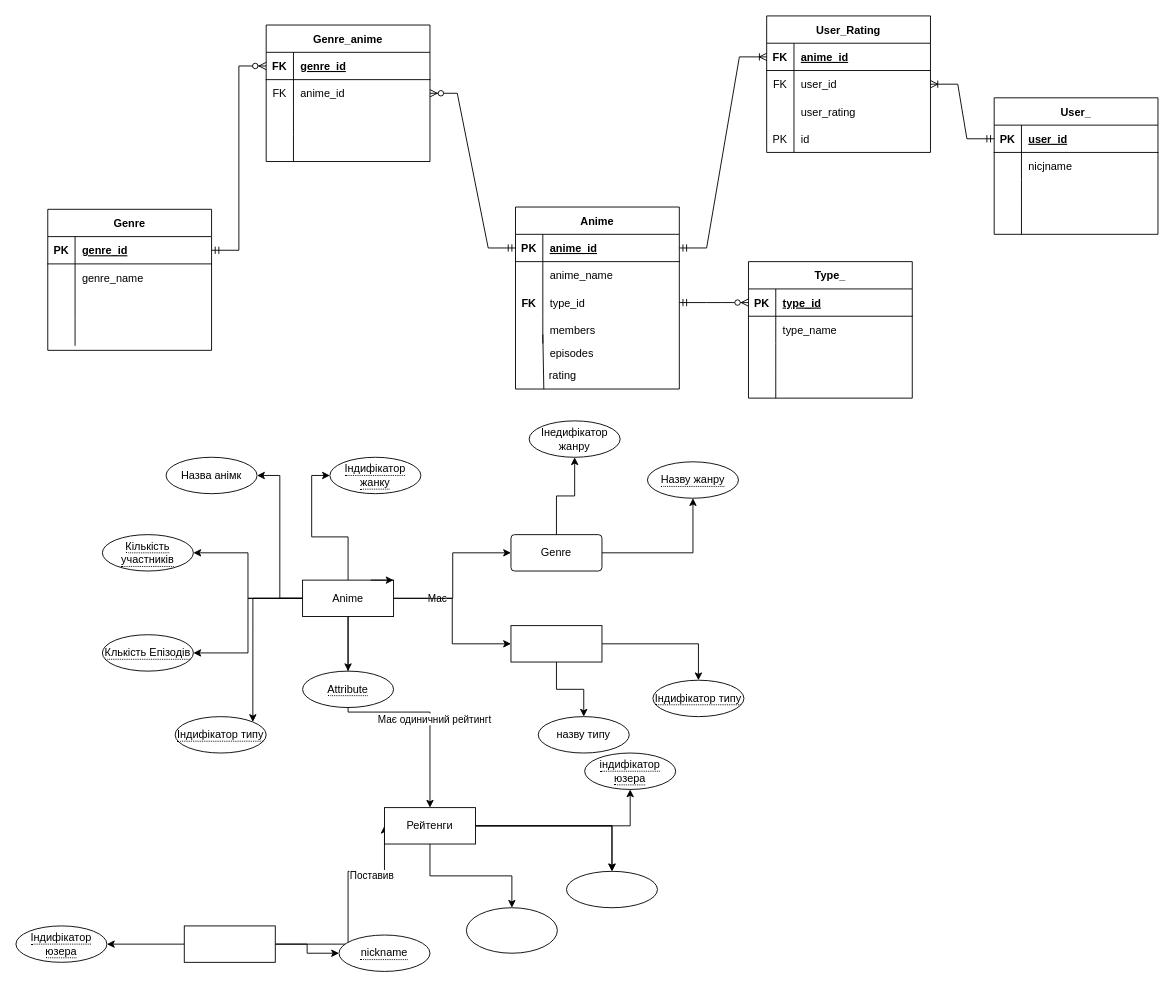
Image size: 1174x987. Some labels were removed from this diagram. The shapes that lost their labels are listed below. From the top down, each one's centre as x and y in pixels, then its label:
(556,643): Type
(611,889): Індифікатор аніме
(229,943): User
(511,930): id запису рейтенгу
